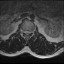CCS_normal: (26, 28, 28, 37)
LFS_normal: (30, 29, 32, 34)
LLS_normal: (28, 29, 30, 35)
RFS_normal: (22, 28, 24, 34)
RLS_normal: (24, 29, 26, 35)
